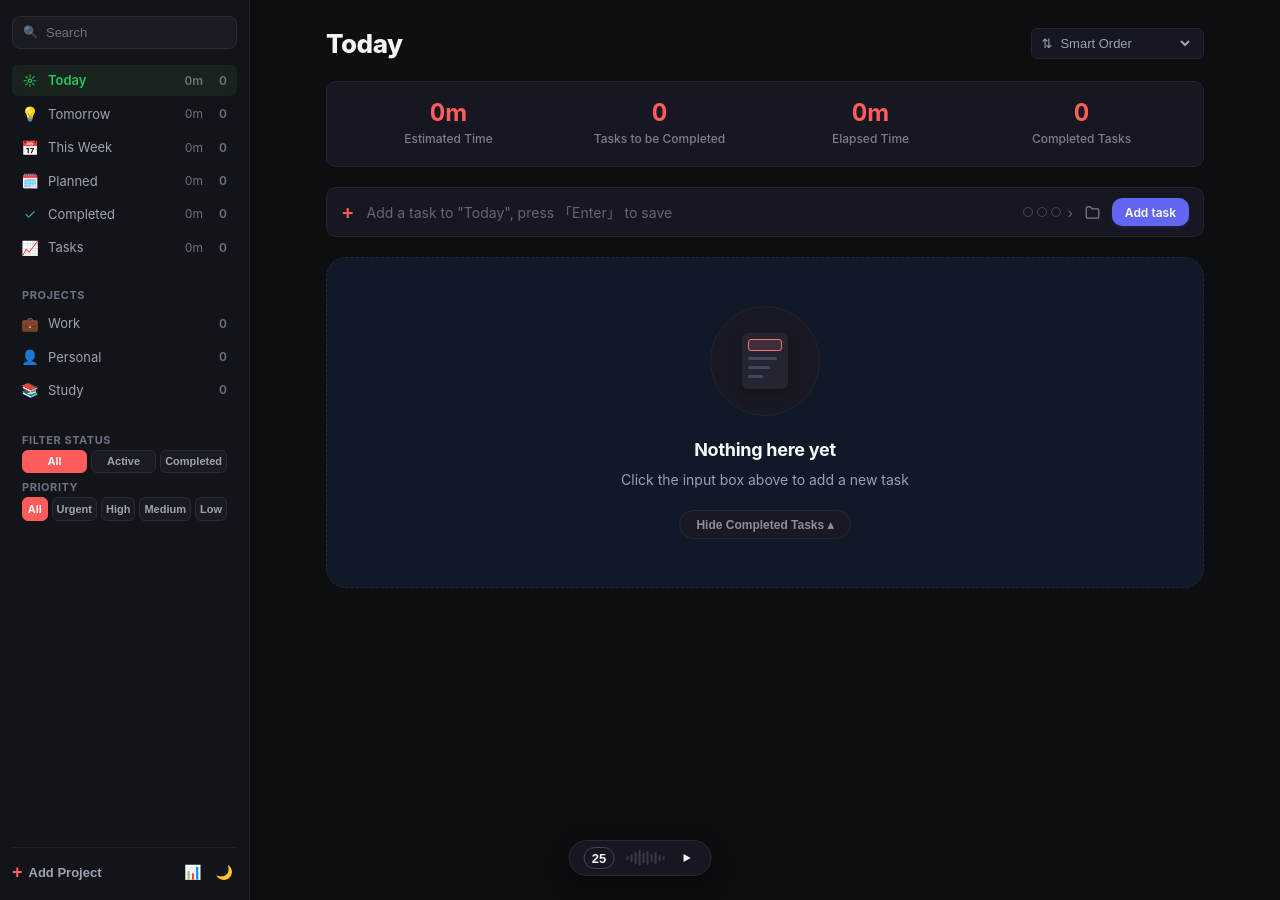
App component integration › filters to show only completed tasks
In the field named "title": {"x": 689, "y": 212} [366,204,1012,221], type "Task A"
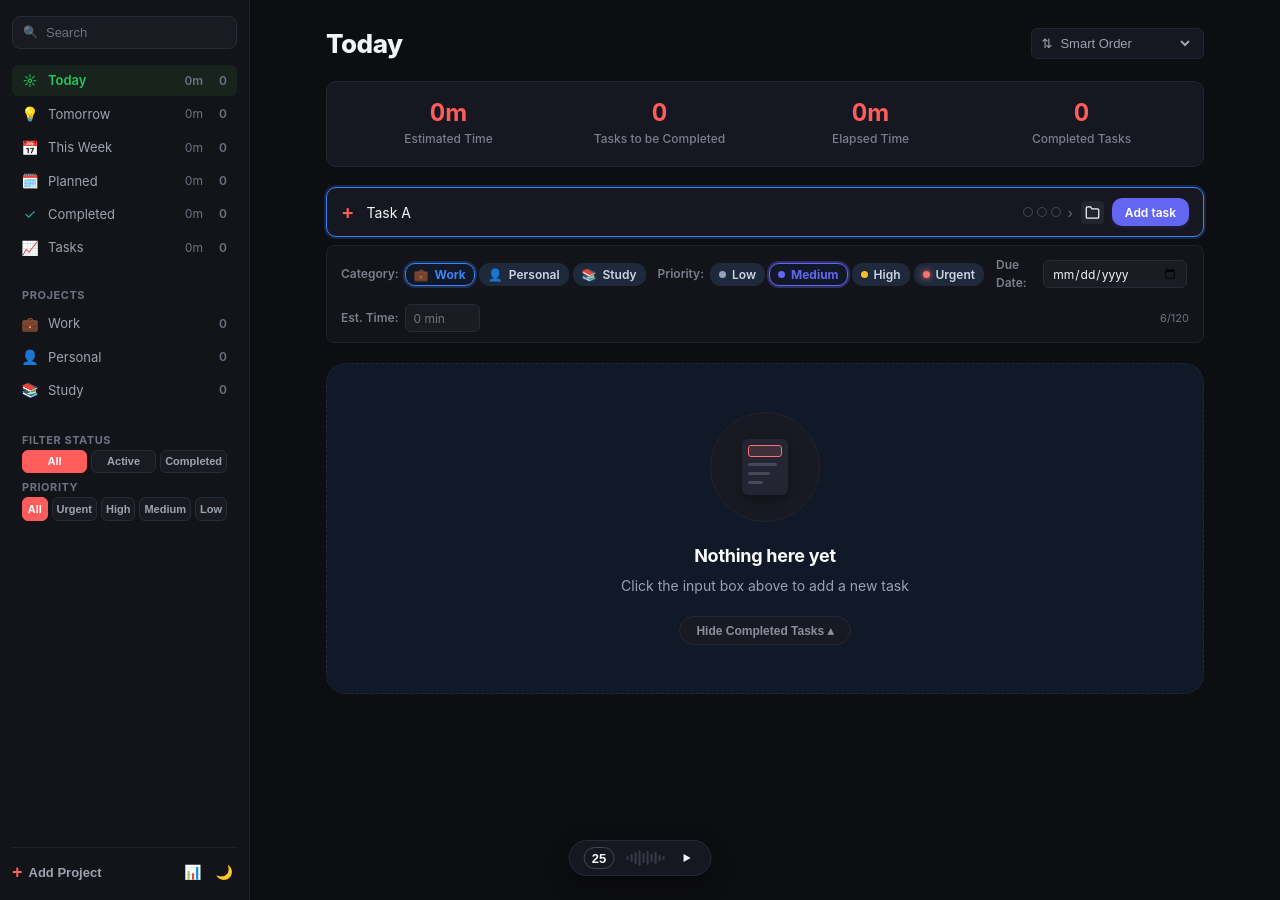
Click the button "Add task": {"x": 1150, "y": 212} [1112,198,1189,226]
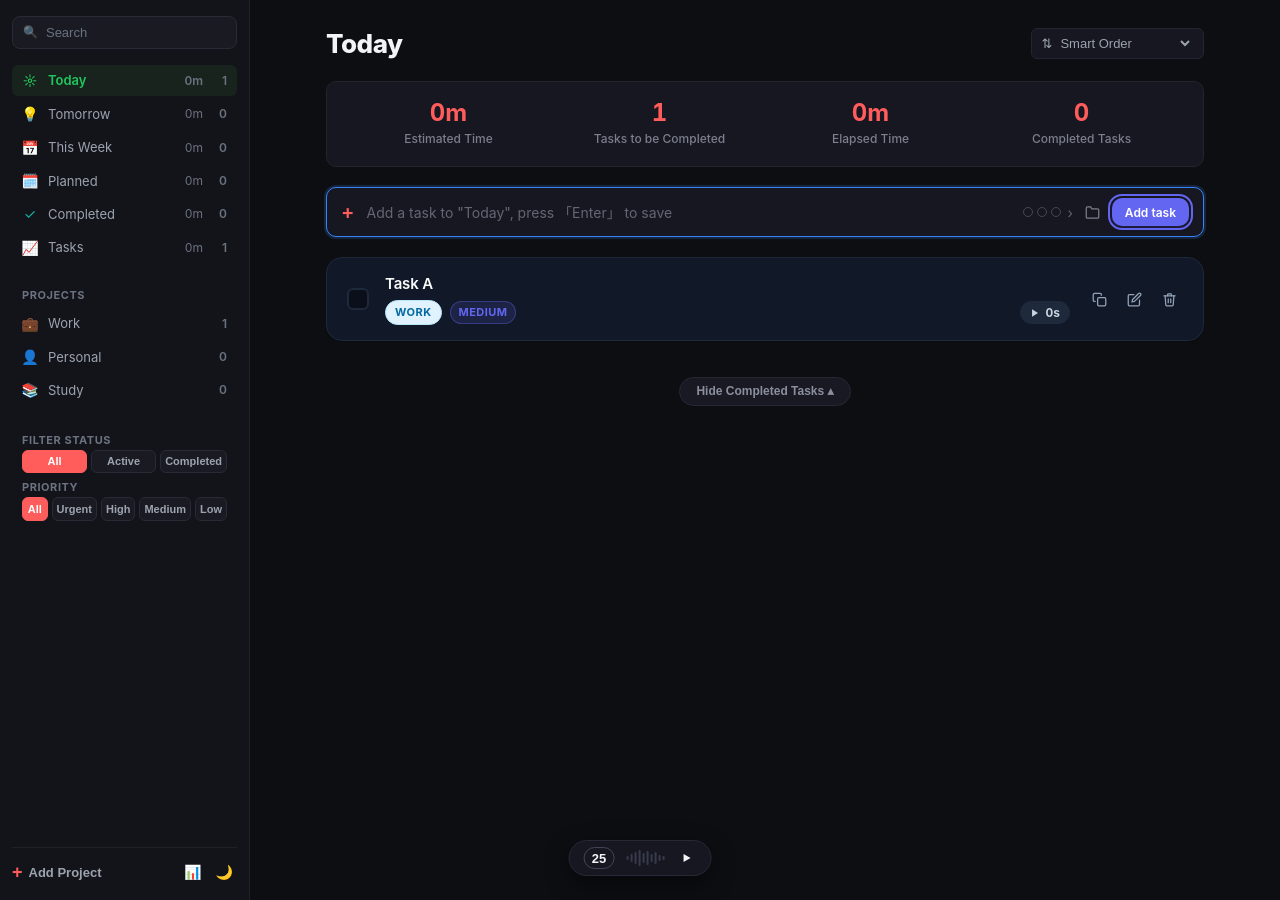
In the field named "title": {"x": 689, "y": 212} [366,204,1012,221], type "Task B"
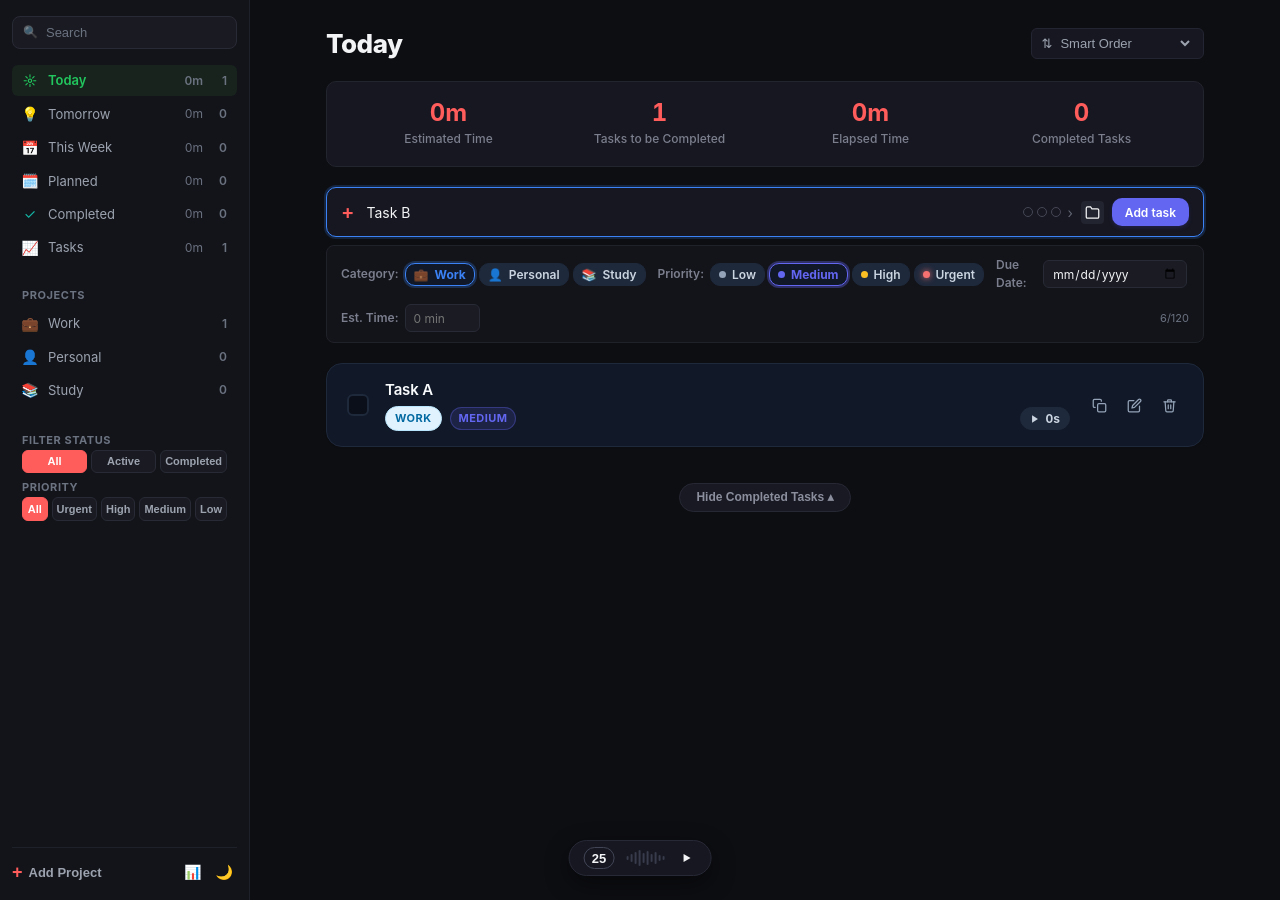
Click the button "Add task": {"x": 1150, "y": 212} [1112,198,1189,226]
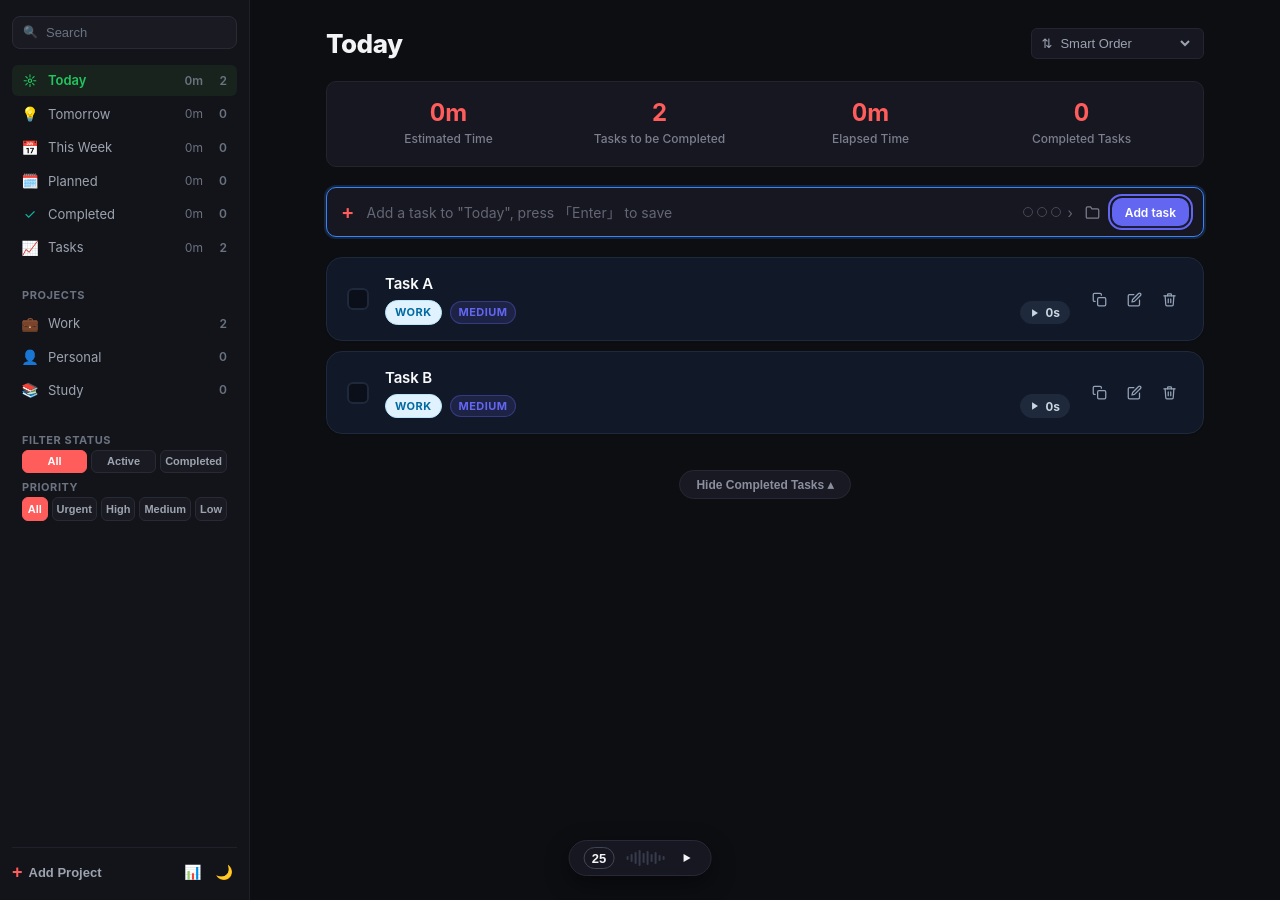
Click the checkbox named "mark \"task b\" as complete": {"x": 358, "y": 393} [347,382,369,404]
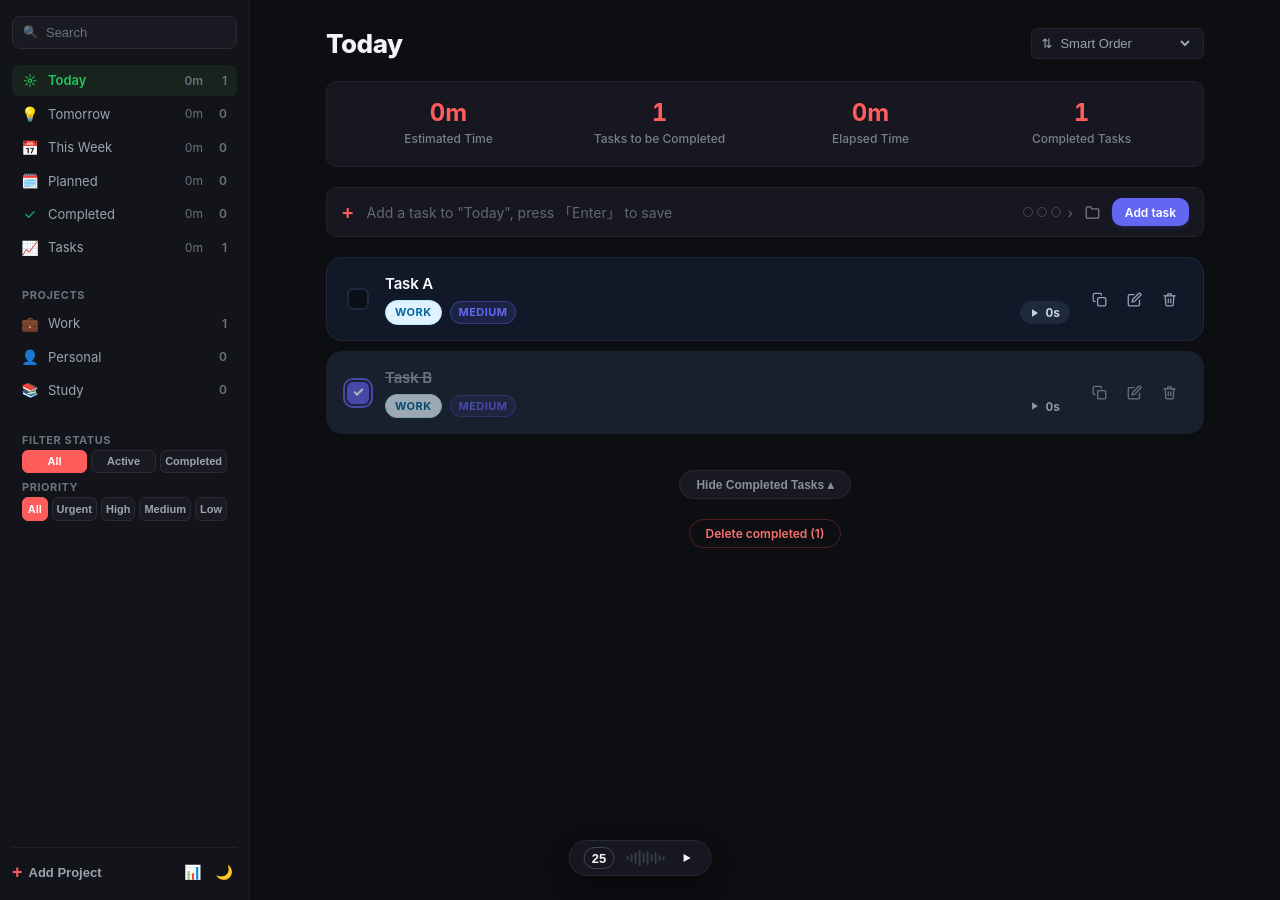
Click the button "Completed": {"x": 194, "y": 462} [160,450,227,473]
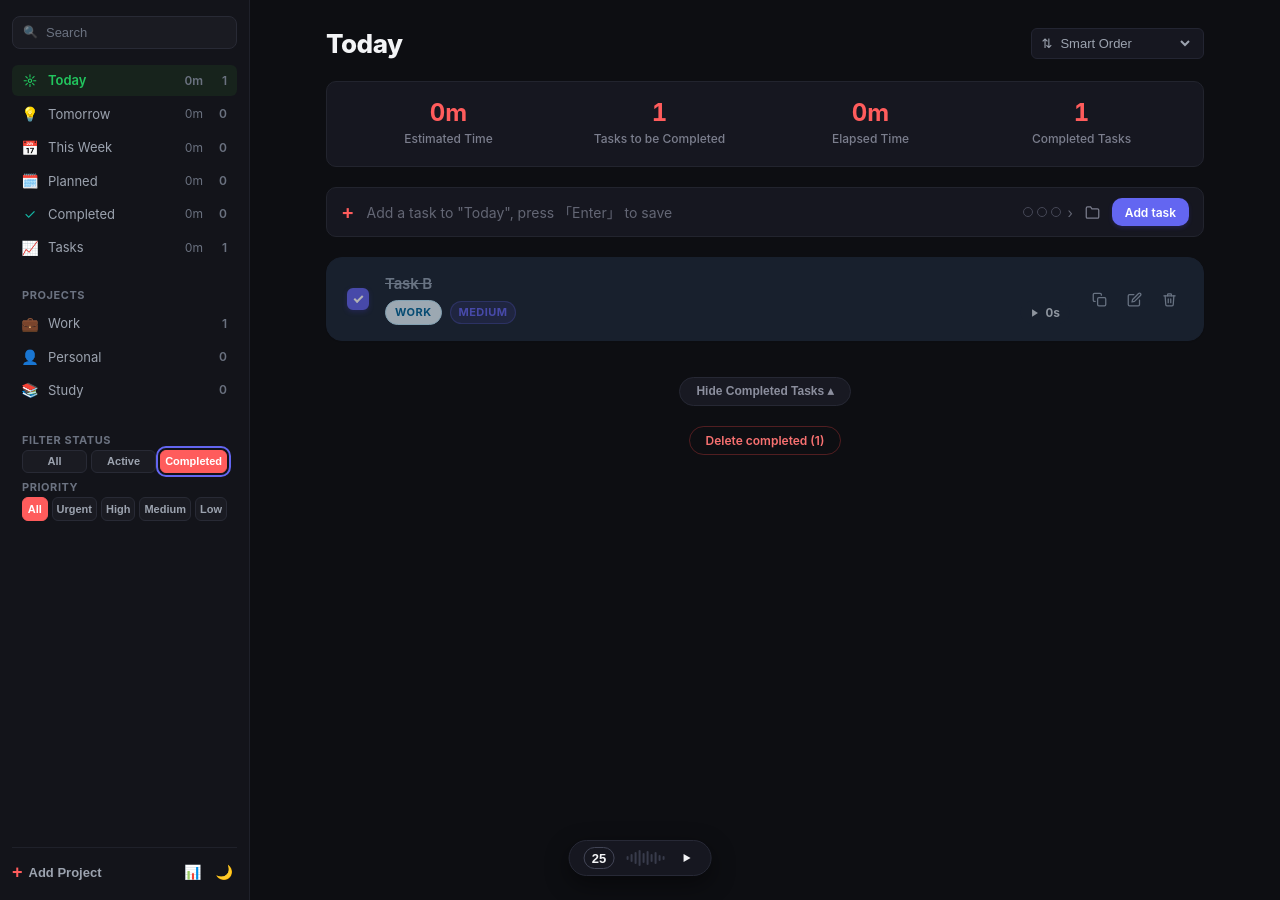
Check: the text "Task B" is shown, box [385,274,432,293]
Check: the text "Task A" is gone
